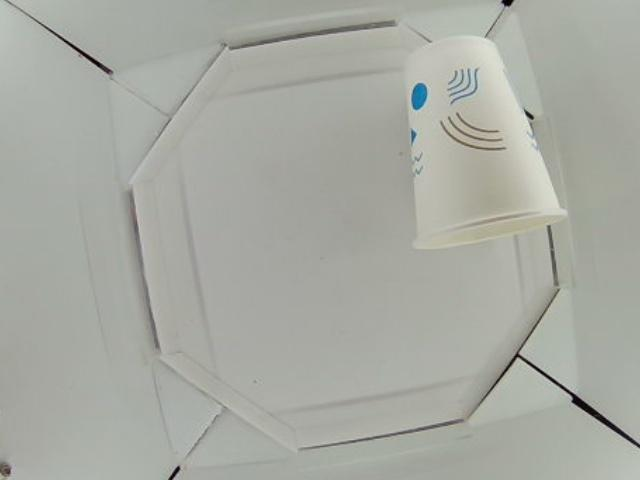Cup: (401, 34, 565, 254)
